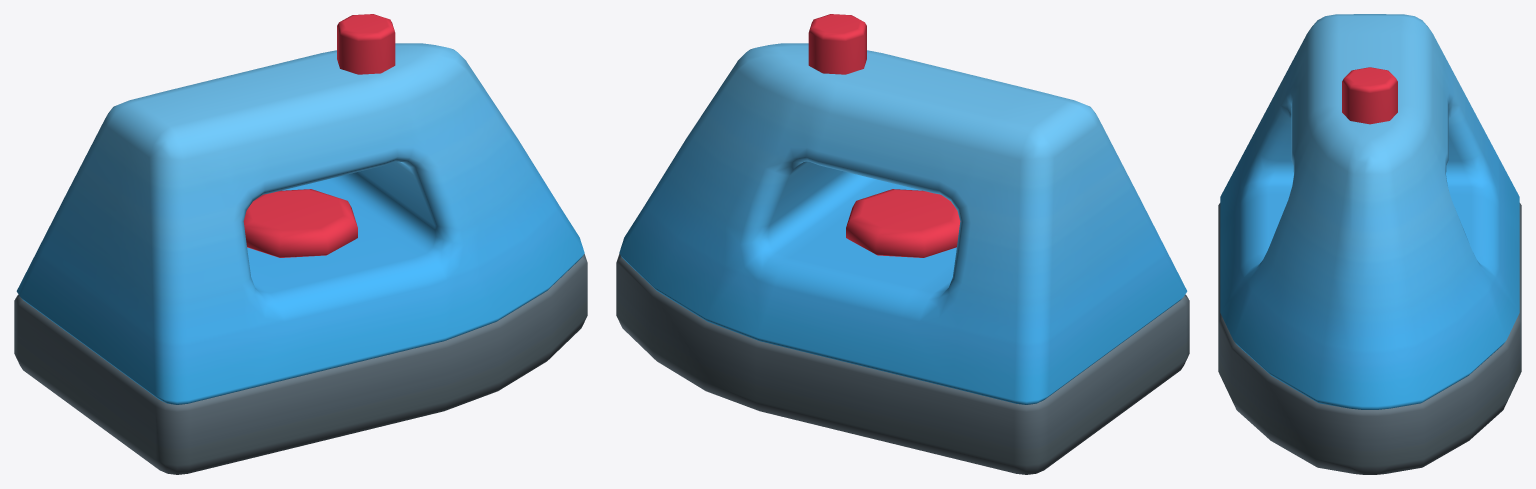
The model's file is Iron_01.glb.
3 views of the same model, side by side, from view 1: azimuth 30°, elevation 25°; view 2: azimuth 150°, elevation 25°; view 3: azimuth 270°, elevation 25° (orthographic). The views are drawn at different scales.
Visible parts, largest first — view 1: Iron_01; view 2: Iron_01; view 3: Iron_01.
Boxes of the visible parts, left/top/right/bottom form: Iron_01: left=14, top=14, right=587, bottom=474; Iron_01: left=616, top=14, right=1189, bottom=474; Iron_01: left=1218, top=14, right=1521, bottom=474.
Size of the model in its own units: 0.3544 by 0.2325 by 0.2057.
Materials: 1 (1 with a texture image).
